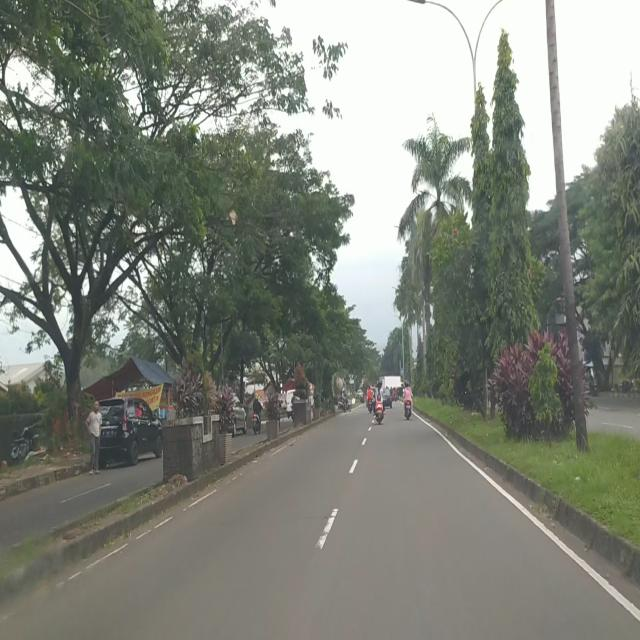Sewer Cover: (302, 514, 333, 518)
